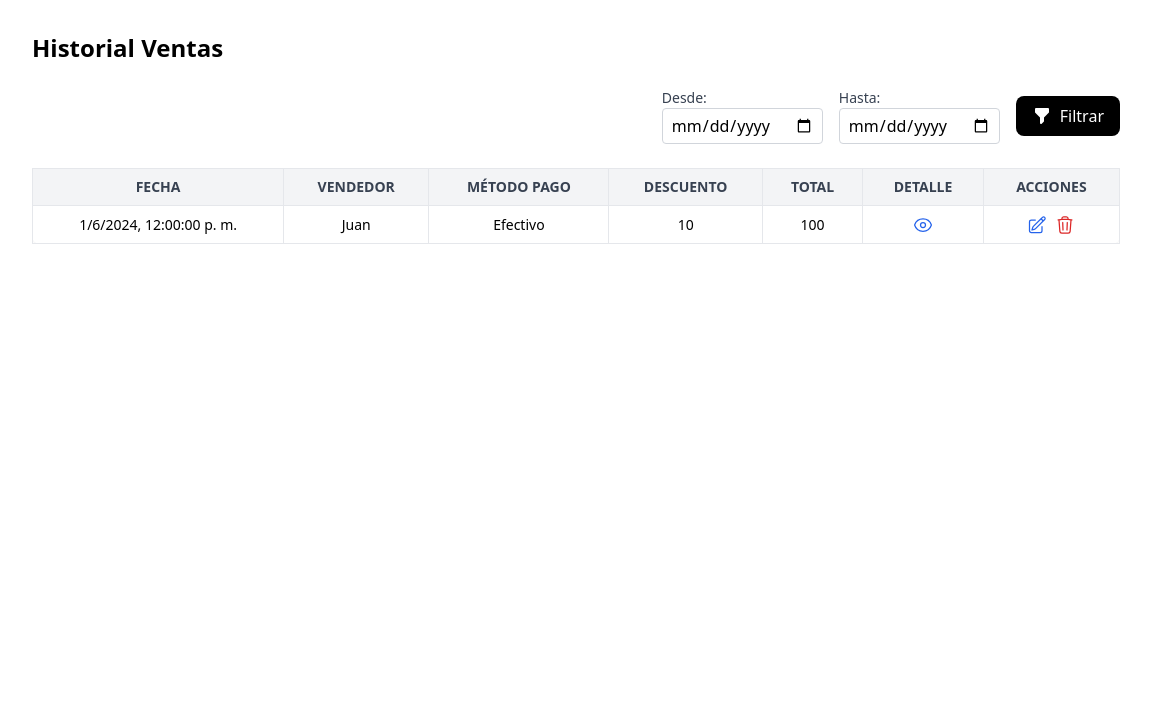
it: HistorialVentas › abre y cierra el modal de detalle
Expected: the text "Juan" is shown, left=284, top=206, right=429, bottom=244
Step 1. Click the button titled "Ver Detalle" → (923, 225), box left=913, top=214, right=933, bottom=235
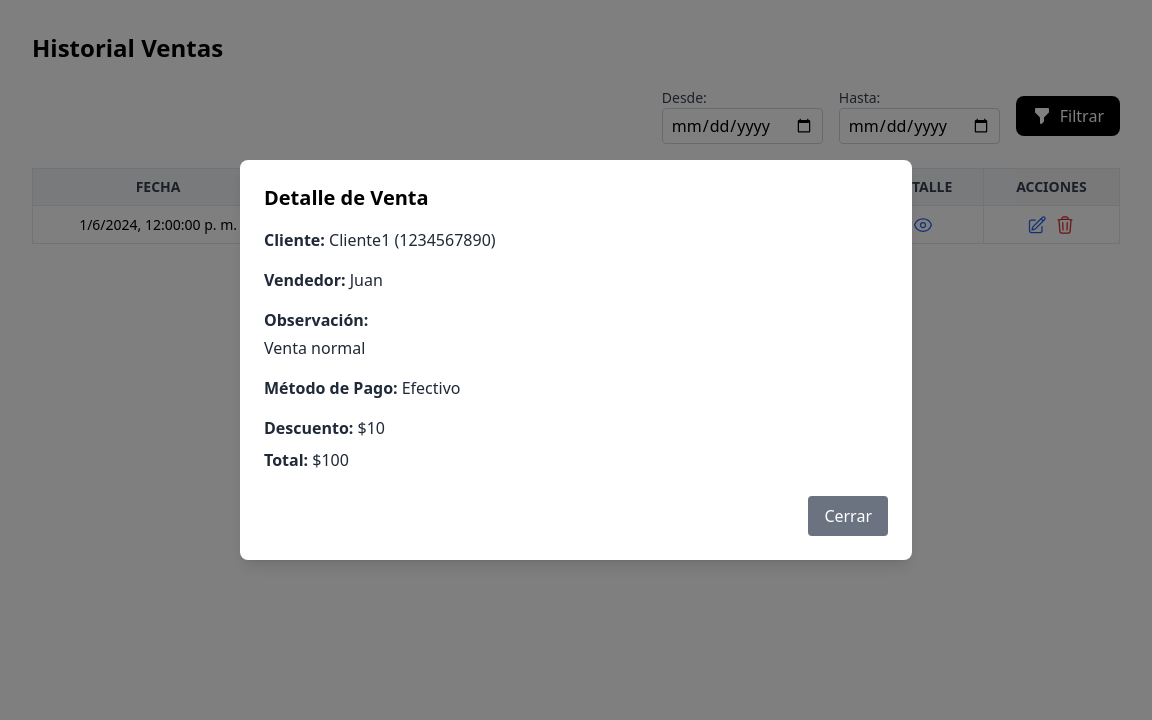
Expected: the heading "Detalle de Venta" is shown, left=264, top=184, right=429, bottom=211
Expected: the text "Cliente:" is shown, left=264, top=229, right=325, bottom=251
Step 2. Click the button "Cerrar" → (848, 516), box left=808, top=496, right=888, bottom=536
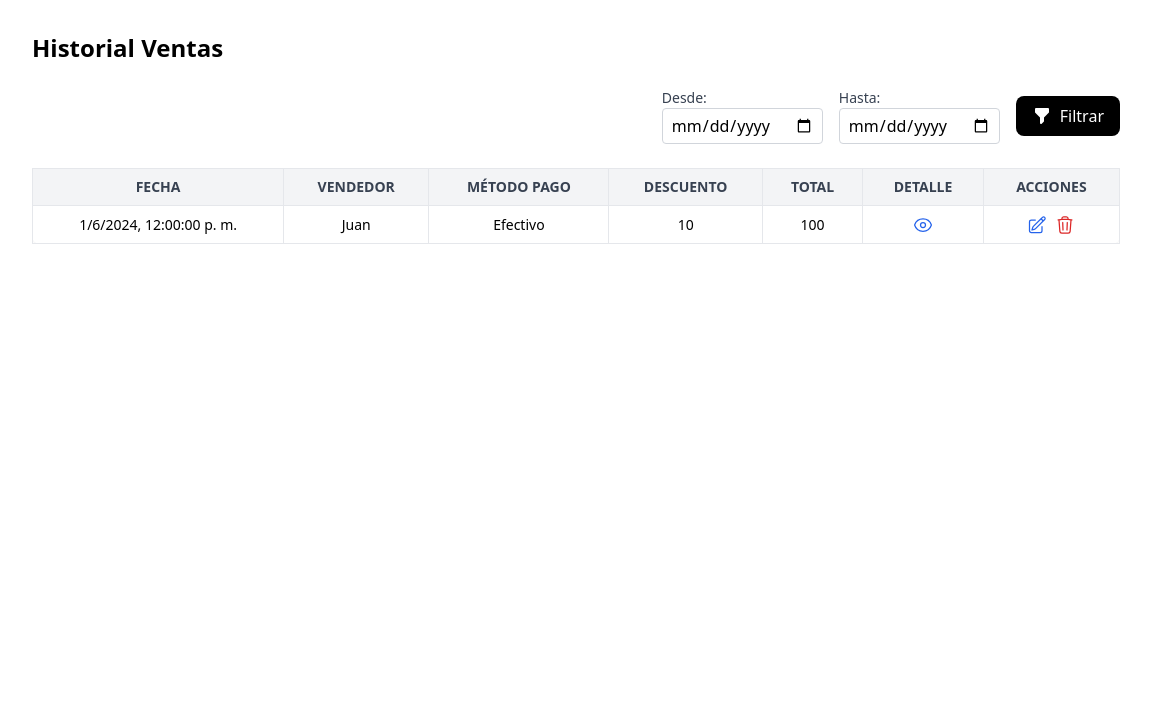
Expected: the heading "Detalle de Venta" is gone
